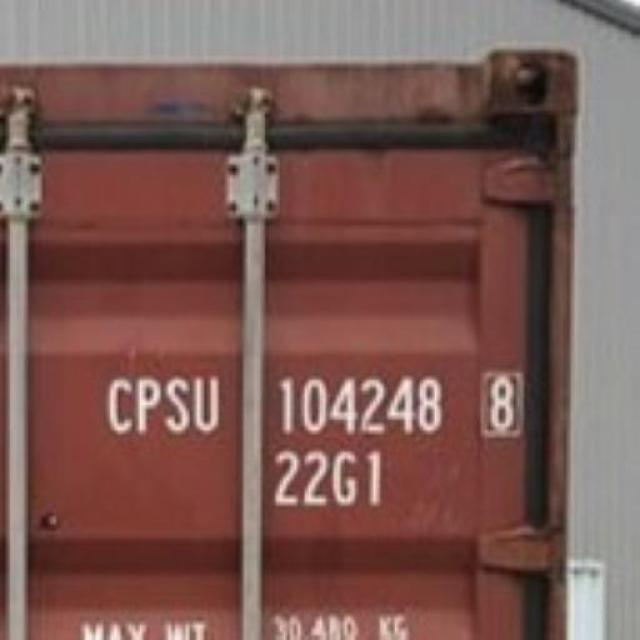ISO: (268, 451, 391, 512)
container_number: (109, 376, 518, 436)
